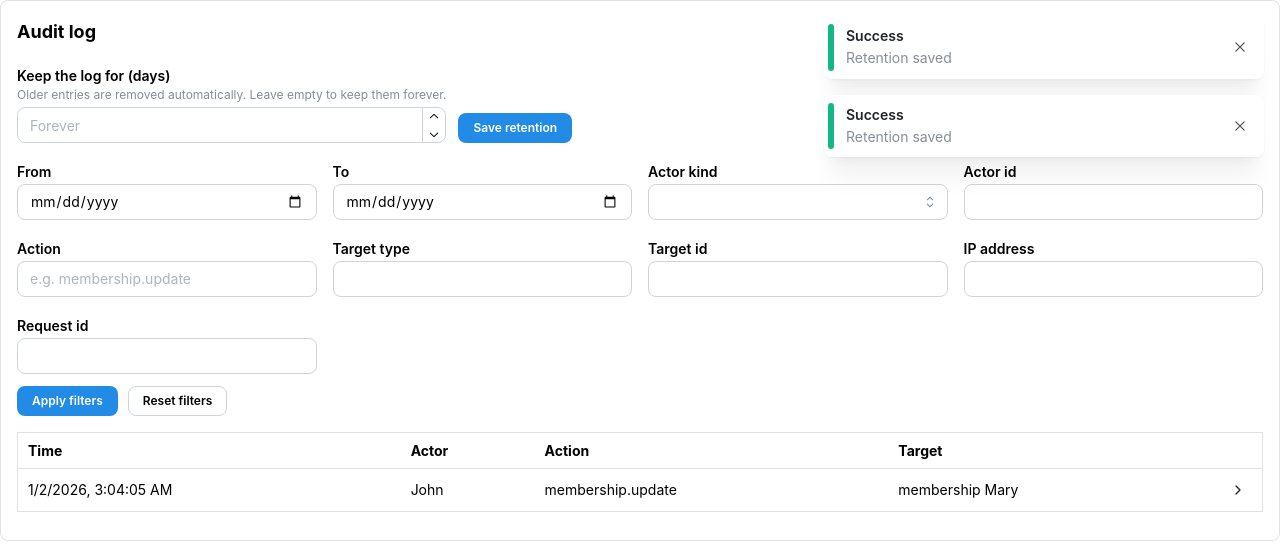
it: a failed retention save is reported
Type "5" into the field labelled "Keep the log for (days)". click: coordinates (232, 125)
box: [17,107,446,143]
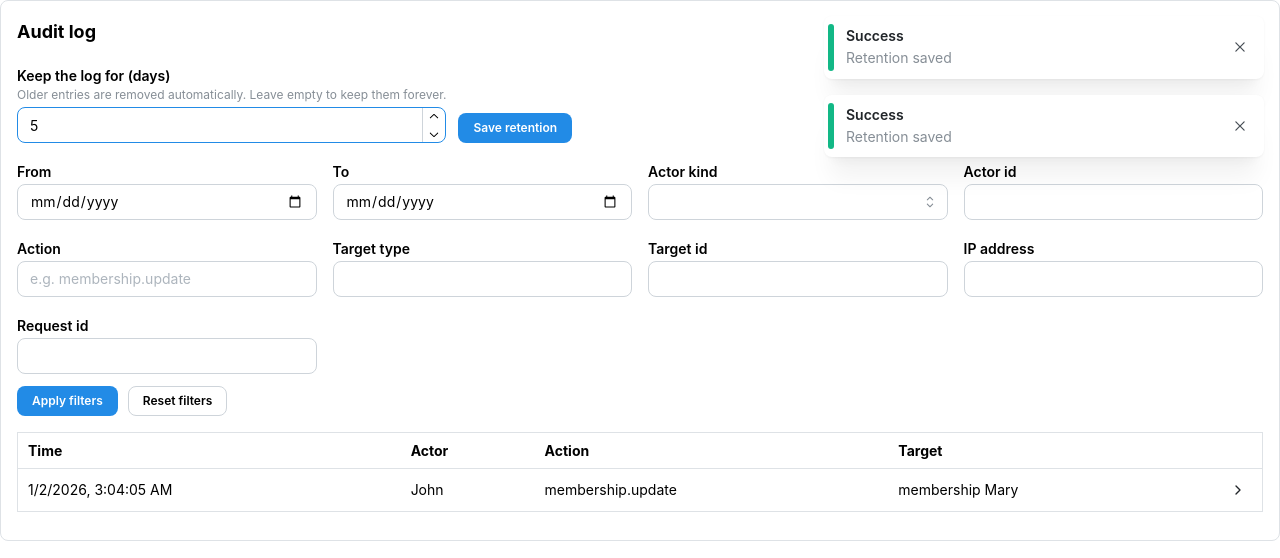
Click the button "Save retention". click: coordinates (515, 128)
box: [458,113,572,143]
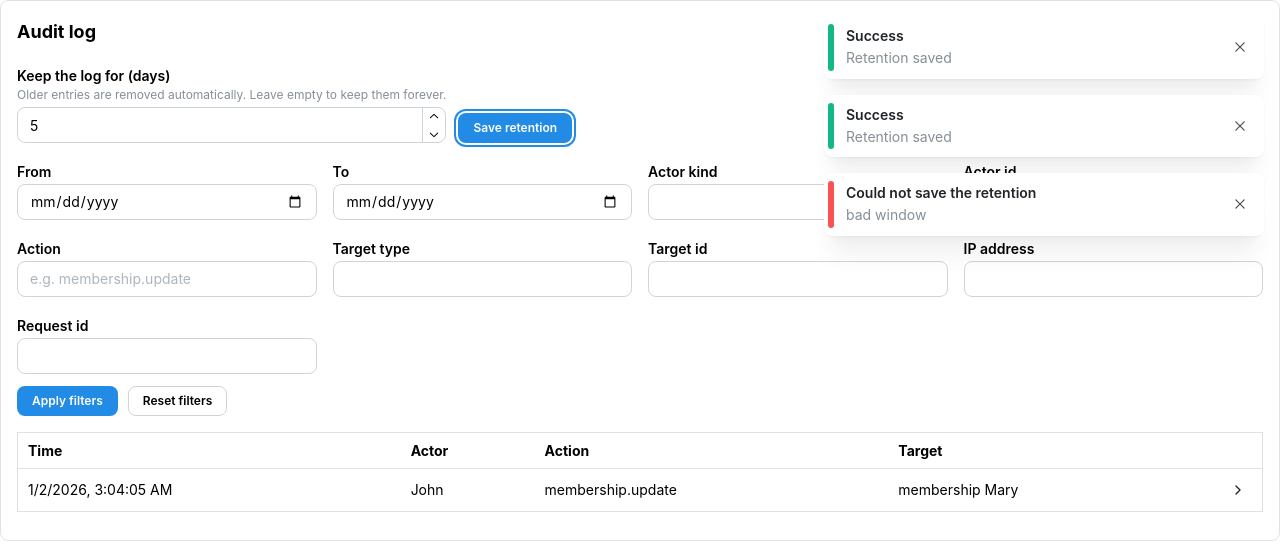
Now the text "Could not save the retention" is shown, box [846,184,1036,201]
